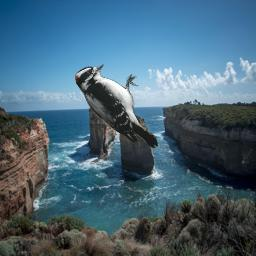Woodpecker: (75, 64, 158, 148)
